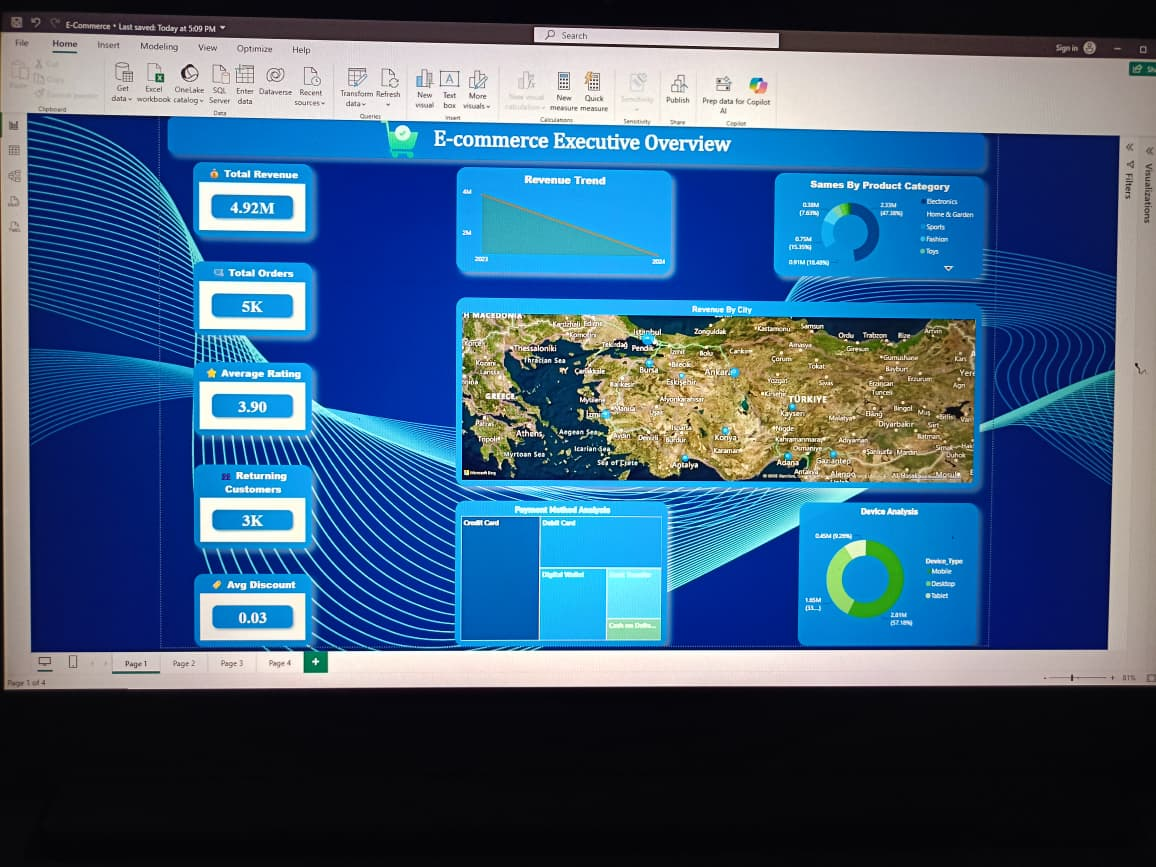

The page's visual inventory and layout, read from the dashboard file:
{"tool":"powerbi","page":{"name":"Page 1","canvas":[1680,1050],"ordinal":0},"visuals":[{"type":"cardVisual","title":"💰 Total Revenue","fields":{"Data":["E_Commerce_Dataset.Total Revenue"]},"box":[64.5,88.6,231.5,145.5],"z":0},{"type":"cardVisual","title":"👥 Returning Customers","fields":{"Data":["E_Commerce_Dataset.Returning Customers"]},"box":[64.5,685.7,231.5,167],"z":1000},{"type":"cardVisual","title":"⭐ Average Rating","fields":{"Data":["E_Commerce_Dataset.Avg Rating"]},"box":[64.5,482,231.5,145.5],"z":2000},{"type":"cardVisual","title":"🛒 Total Orders","fields":{"Data":["E_Commerce_Dataset.Total Orders"]},"box":[64.5,283.4,231.5,145.5],"z":3000},{"type":"cardVisual","title":"🏷️ Avg Discount","fields":{"Data":["E_Commerce_Dataset.Avg Discount"]},"box":[64.5,903.3,231.5,145.5],"z":4000},{"type":"lineChart","title":"Revenue Trend","fields":{"Category":["E_Commerce_Dataset.Date.Variation.Date Hierarchy.Year","E_Commerce_Dataset.Date.Variation.Date Hierarchy.Quarter","E_Commerce_Dataset.Date.Variation.Date Hierarchy.Month","E_Commerce_Dataset.Date.Variation.Date Hierarchy.Day"],"Y":["E_Commerce_Dataset.Total Revenue"]},"box":[581.9,88.6,431.4,207.5],"z":5000},{"type":"donutChart","title":"Sales By Product Category","fields":{"Category":["E_Commerce_Dataset.Product_Category"],"Y":["E_Commerce_Dataset.Total Revenue"]},"box":[1222.5,88.7,431.3,207],"z":6000},{"type":"map","title":"Revenue By City","fields":{"Category":["E_Commerce_Dataset.City"],"Size":["E_Commerce_Dataset.Total Revenue"]},"box":[581.9,347.9,1071.5,378.3],"z":7000},{"type":"treemap","title":"Payment Method Analysis","fields":{"Values":["E_Commerce_Dataset.Total Revenue"],"Group":["E_Commerce_Dataset.Payment_Method"]},"box":[581.9,755.2,431.4,294.8],"z":8000},{"type":"donutChart","title":"Device Analysis","fields":{"Category":["E_Commerce_Dataset.Device_Type"],"Y":["E_Commerce_Dataset.Total Revenue"]},"box":[1282.8,755.2,370.7,294.8],"z":9000},{"type":"textbox","box":[15.2,0,1638.3,73.4],"z":10000},{"type":"image","box":[180.9,0,574.3,73.4],"z":11000}]}

Visuals, with their boxes on the page's 1680x1050 design canvas (x1, y1, x2, y2). These are canvas units, not pixel positions in the 1156x867 screenshot, which may show the page scaled, cropped or inside an application window:
"💰 Total Revenue" cardVisual: select_region(64, 89, 296, 234)
"👥 Returning Customers" cardVisual: select_region(64, 686, 296, 853)
"⭐ Average Rating" cardVisual: select_region(64, 482, 296, 628)
"🛒 Total Orders" cardVisual: select_region(64, 283, 296, 429)
"🏷️ Avg Discount" cardVisual: select_region(64, 903, 296, 1049)
"Revenue Trend" lineChart: select_region(582, 89, 1013, 296)
"Sales By Product Category" donutChart: select_region(1222, 89, 1654, 296)
"Revenue By City" map: select_region(582, 348, 1653, 726)
"Payment Method Analysis" treemap: select_region(582, 755, 1013, 1050)
"Device Analysis" donutChart: select_region(1283, 755, 1654, 1050)
textbox: select_region(15, 0, 1654, 73)
image: select_region(181, 0, 755, 73)
